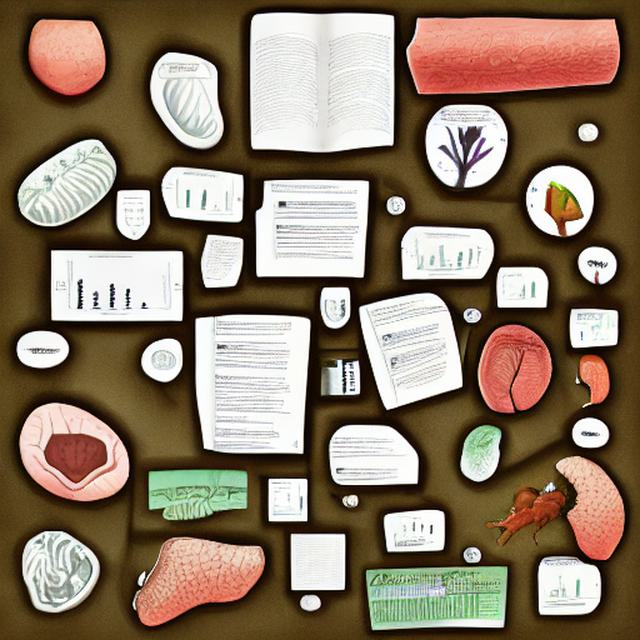Graph: (53, 252, 154, 319), (407, 232, 476, 274)
